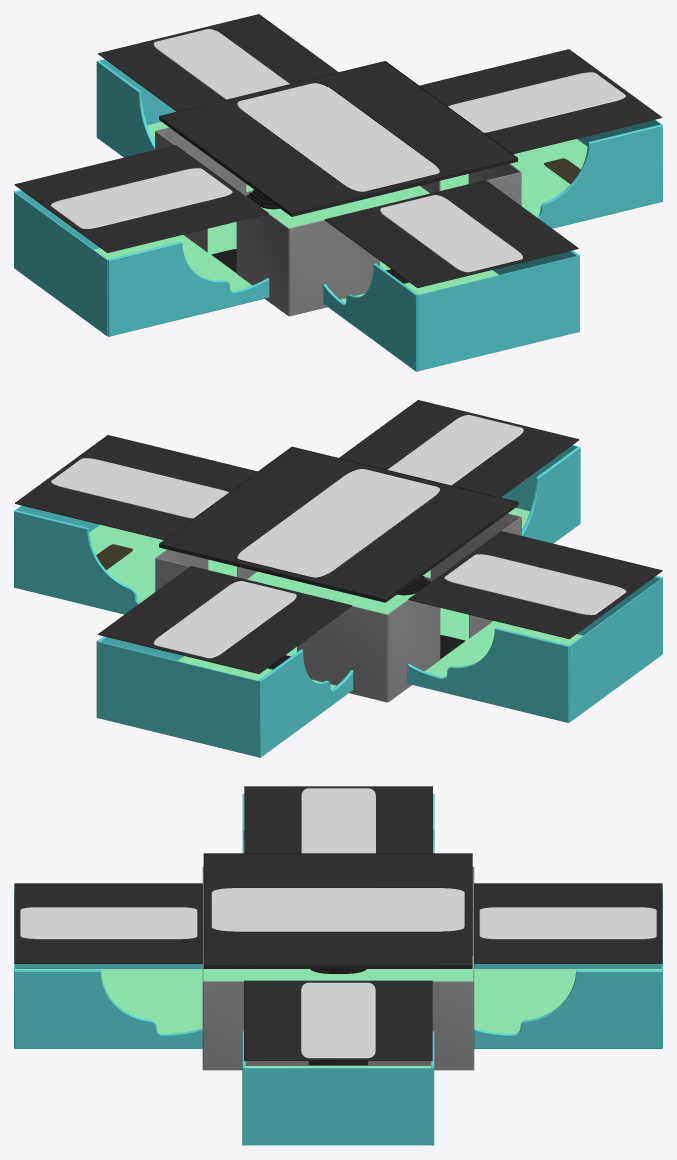
Rendered from Environment_Model.fbx.
3 views of the same model, one above another, from view 1: azimuth 30°, elevation 25°; view 2: azimuth 150°, elevation 25°; view 3: azimuth 270°, elevation 25° (orthographic).
Visible parts, largest first — view 1: Roof.005, Wall.003, RoofPanel.004, Roof.004, Roof, Roof.002, Wall.015, Roof.003, Wall.005, Wall.014, Wall, RoofPanel.003 (+16 smaller); view 2: Roof.005, Wall.010, RoofPanel.004, Roof.004, Roof.003, Roof.002, Wall.013, Roof, Wall.007, Wall.014, Wall.008, RoofPanel.003 (+16 smaller); view 3: Roof.005, Wall.006, RoofPanel.004, Wall.002, Roof.003, Roof, Wall.009, Roof.002, Roof.004, Wall.004, RoofPanel.002, RoofPanel (+7 smaller).
Boxes of the visible parts, x1=… form: Roof.005: x1=159, y1=61, x2=517, y2=216; Wall.003: x1=417, y1=256, x2=578, y2=371; RoofPanel.004: x1=237, y1=83, x2=439, y2=191; Roof.004: x1=14, y1=145, x2=268, y2=252; Roof: x1=324, y1=180, x2=578, y2=287; Roof.002: x1=420, y1=49, x2=661, y2=154; Wall.015: x1=107, y1=241, x2=269, y2=336; Roof.003: x1=98, y1=14, x2=338, y2=111; Wall.005: x1=537, y1=124, x2=662, y2=228; Wall.014: x1=14, y1=192, x2=107, y2=335; Wall: x1=289, y1=172, x2=520, y2=316; RoofPanel.003: x1=50, y1=168, x2=232, y2=228; Roof.005: x1=159, y1=446, x2=518, y2=602; Wall.010: x1=98, y1=642, x2=258, y2=757; RoofPanel.004: x1=237, y1=469, x2=439, y2=577; Roof.004: x1=408, y1=531, x2=662, y2=639; Roof.003: x1=98, y1=566, x2=352, y2=673; Roof.002: x1=15, y1=435, x2=257, y2=539; Wall.013: x1=407, y1=627, x2=569, y2=722; Roof: x1=339, y1=400, x2=579, y2=497; Wall.007: x1=14, y1=510, x2=139, y2=614; Wall.014: x1=569, y1=578, x2=662, y2=721; Wall.008: x1=156, y1=558, x2=387, y2=702; RoofPanel.003: x1=444, y1=554, x2=626, y2=615; Roof.005: x1=203, y1=853, x2=472, y2=968; Wall.006: x1=244, y1=1068, x2=432, y2=1145; RoofPanel.004: x1=211, y1=888, x2=464, y2=931; Wall.002: x1=14, y1=970, x2=202, y2=1048; Roof.003: x1=474, y1=883, x2=662, y2=963; Roof: x1=14, y1=883, x2=202, y2=963; Wall.009: x1=474, y1=970, x2=662, y2=1048; Roof.002: x1=244, y1=980, x2=432, y2=1060; Roof.004: x1=244, y1=786, x2=432, y2=853; Wall.004: x1=203, y1=981, x2=473, y2=1070; RoofPanel.002: x1=479, y1=907, x2=656, y2=939; RoofPanel: x1=20, y1=907, x2=197, y2=939.
Size of the model in its own units: 3518 by 619 by 3514.
